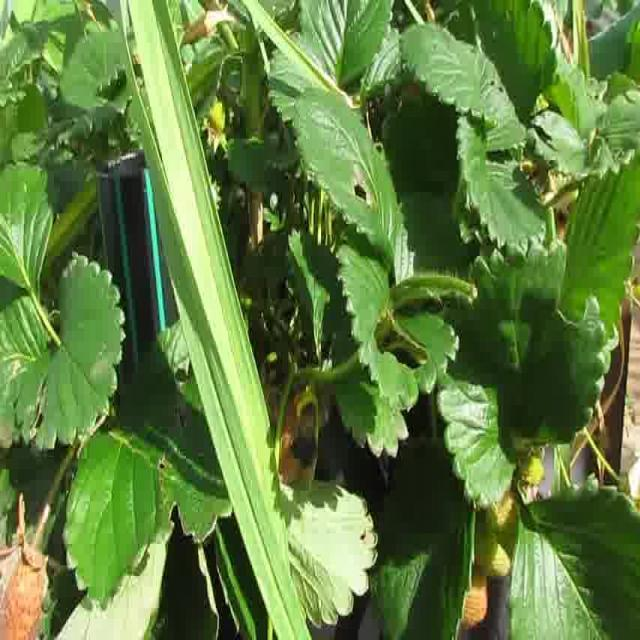Moho gris: (0, 534, 46, 640)
